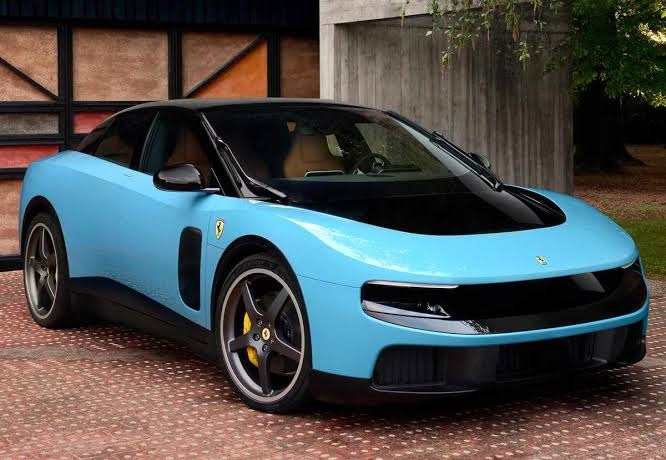car: (1, 85, 655, 419)
